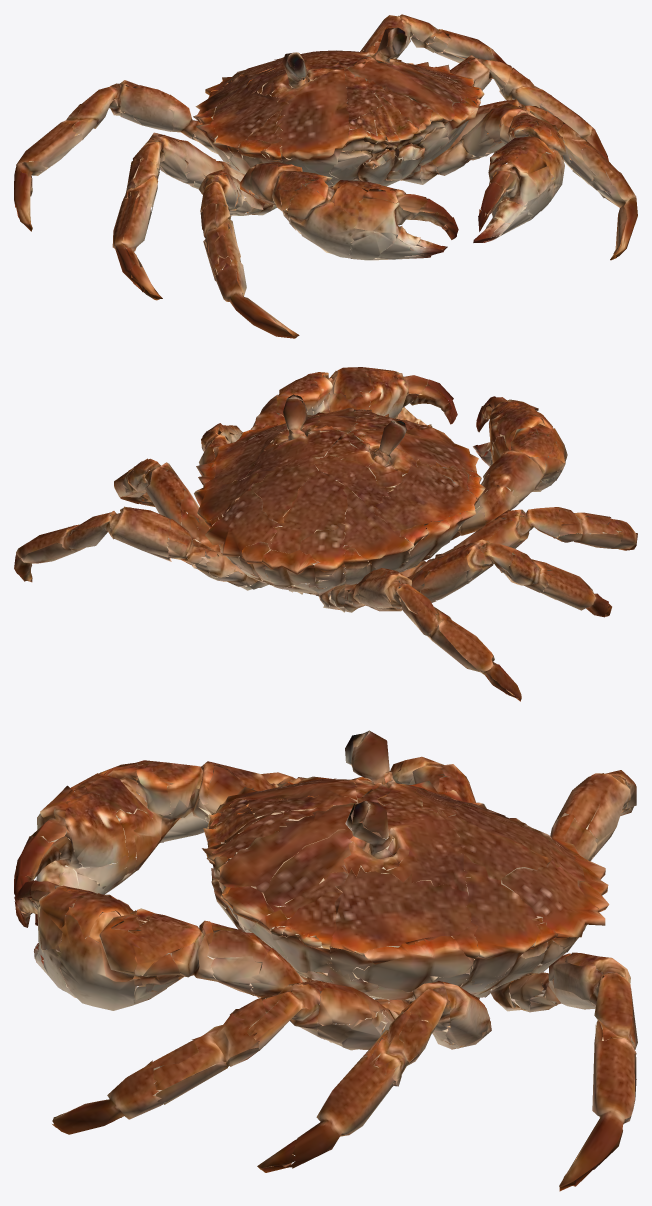
The model's file is crab.glb.
The picture shows the model from 3 angles, top to bottom: view 1: azimuth 30°, elevation 25°; view 2: azimuth 150°, elevation 25°; view 3: azimuth 270°, elevation 25°; orthographic projection. The views are drawn at different scales.
Visible parts, largest first — view 1: Mesh_0; view 2: Mesh_0; view 3: Mesh_0.
Boxes of the visible parts, x1=… form: Mesh_0: x1=14, y1=14, x2=637, y2=338; Mesh_0: x1=14, y1=367, x2=637, y2=701; Mesh_0: x1=14, y1=730, x2=637, y2=1191.
Size of the model in its own units: 0.144 by 0.0503 by 0.1102.
Materials: 1 (1 with a texture image).
